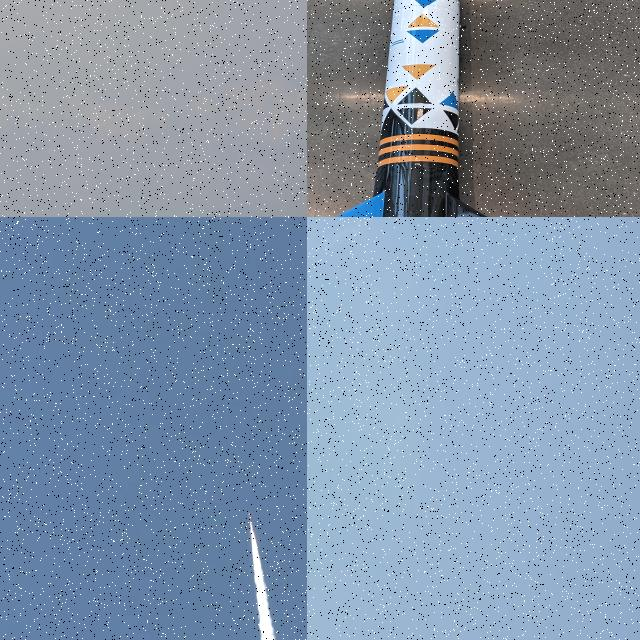Rocket: (335, 0, 488, 217), (248, 510, 254, 530), (387, 445, 392, 453)
